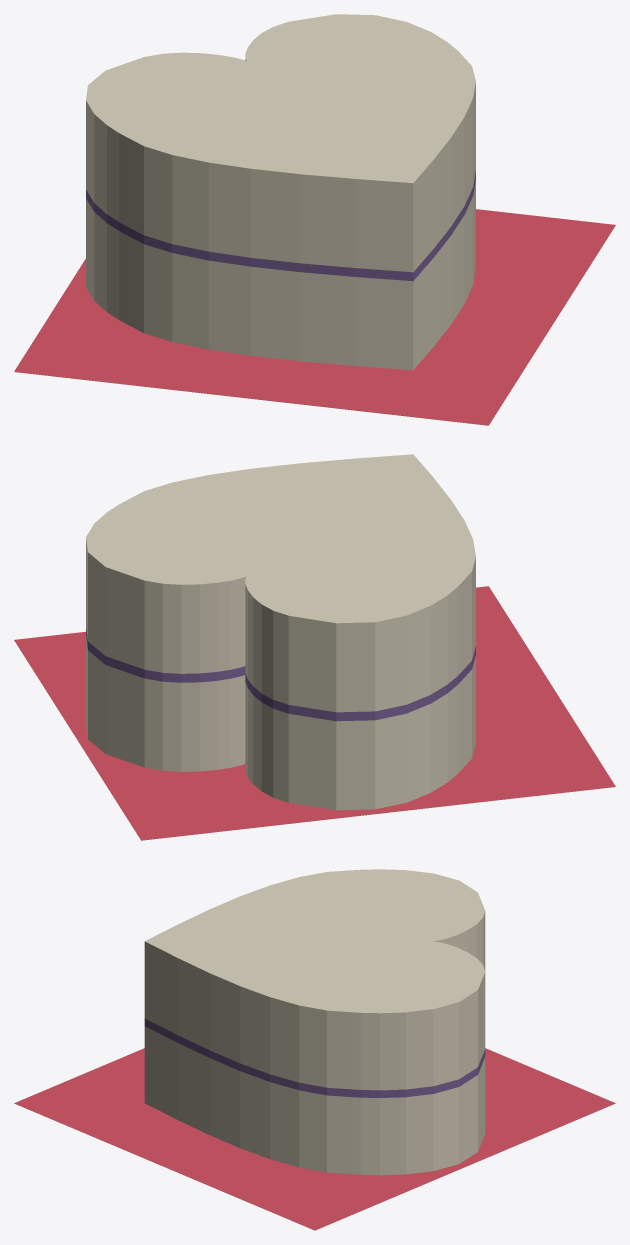
Rendered from VUV.glb.
3 renders of one model, top to bottom at view 1: azimuth 30°, elevation 25°; view 2: azimuth 150°, elevation 25°; view 3: azimuth 270°, elevation 25°, orthographic. The views are drawn at different scales.
Parts seen in each view (by area): view 1: Mesh_Mesh_head_geo.001_lambert2SG.001; view 2: Mesh_Mesh_head_geo.001_lambert2SG.001; view 3: Mesh_Mesh_head_geo.001_lambert2SG.001.
Boxes of the visible parts, bbox=[...] form: Mesh_Mesh_head_geo.001_lambert2SG.001: bbox=[14, 14, 615, 425]; Mesh_Mesh_head_geo.001_lambert2SG.001: bbox=[14, 454, 615, 840]; Mesh_Mesh_head_geo.001_lambert2SG.001: bbox=[14, 869, 615, 1230].
Size of the model in its own units: 0.0354 by 0.0105 by 0.0354.
